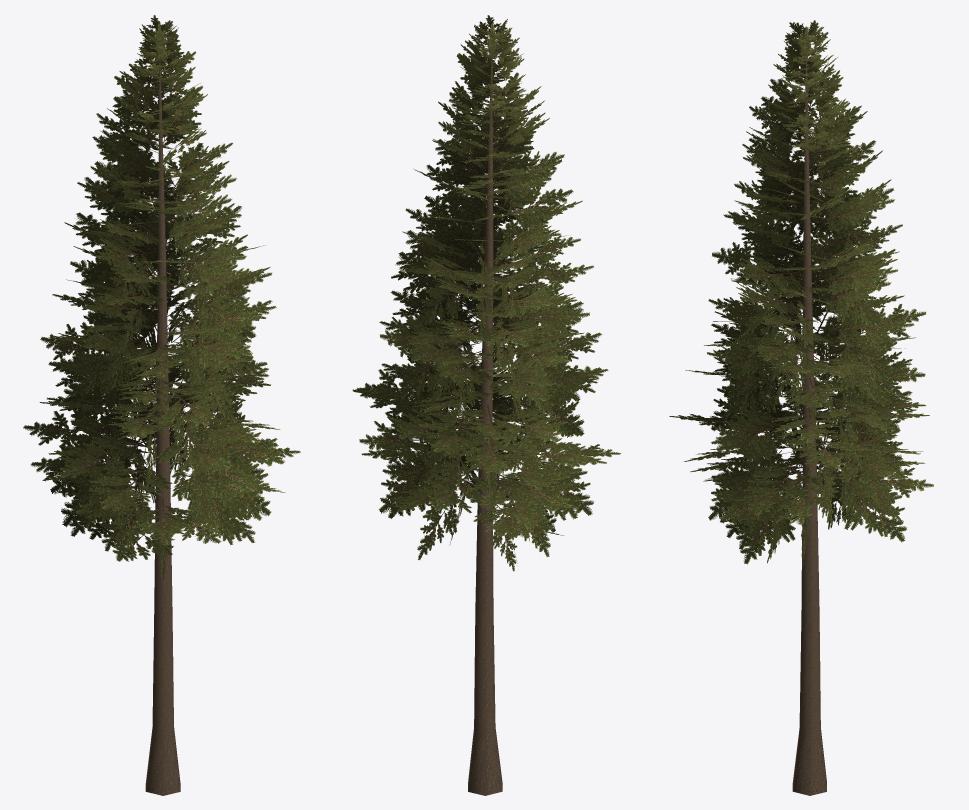
Rendered from fir_giant_a_lod3.gltf.
The picture shows the model from 3 angles, left to right: view 1: azimuth 30°, elevation 25°; view 2: azimuth 150°, elevation 25°; view 3: azimuth 270°, elevation 25°; orthographic projection.
Visible parts, largest first — view 1: fir_giant_a_LOD3; view 2: fir_giant_a_LOD3; view 3: fir_giant_a_LOD3.
Part boxes in pixels (bbox=[...]): fir_giant_a_LOD3: bbox=[23, 15, 300, 795]; fir_giant_a_LOD3: bbox=[352, 15, 620, 795]; fir_giant_a_LOD3: bbox=[669, 20, 933, 795].
Size of the model in its own units: 14.03 by 40.59 by 14.31.
Materials: 2 (2 with a texture image).
